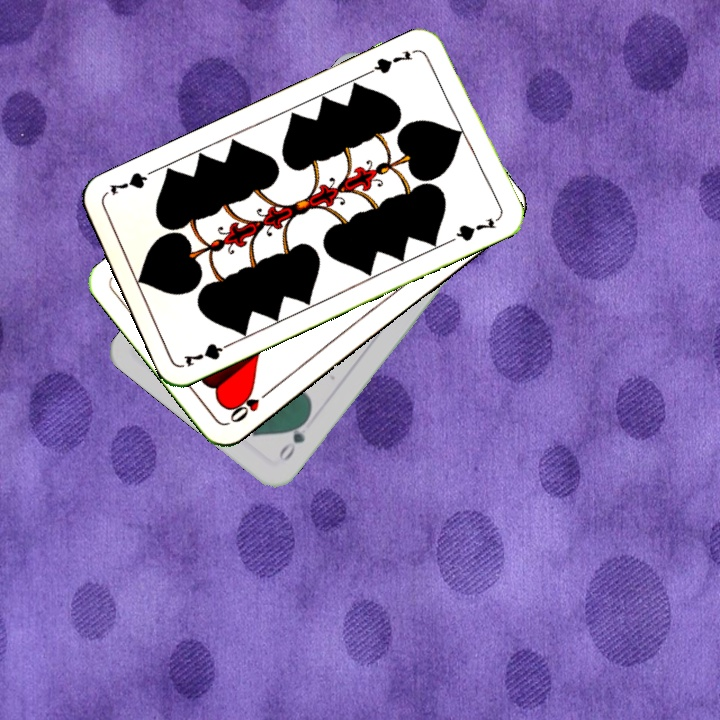G7: (179, 337, 237, 369), (366, 46, 415, 77)
GO: (274, 413, 312, 464)
HO: (225, 385, 275, 426)
